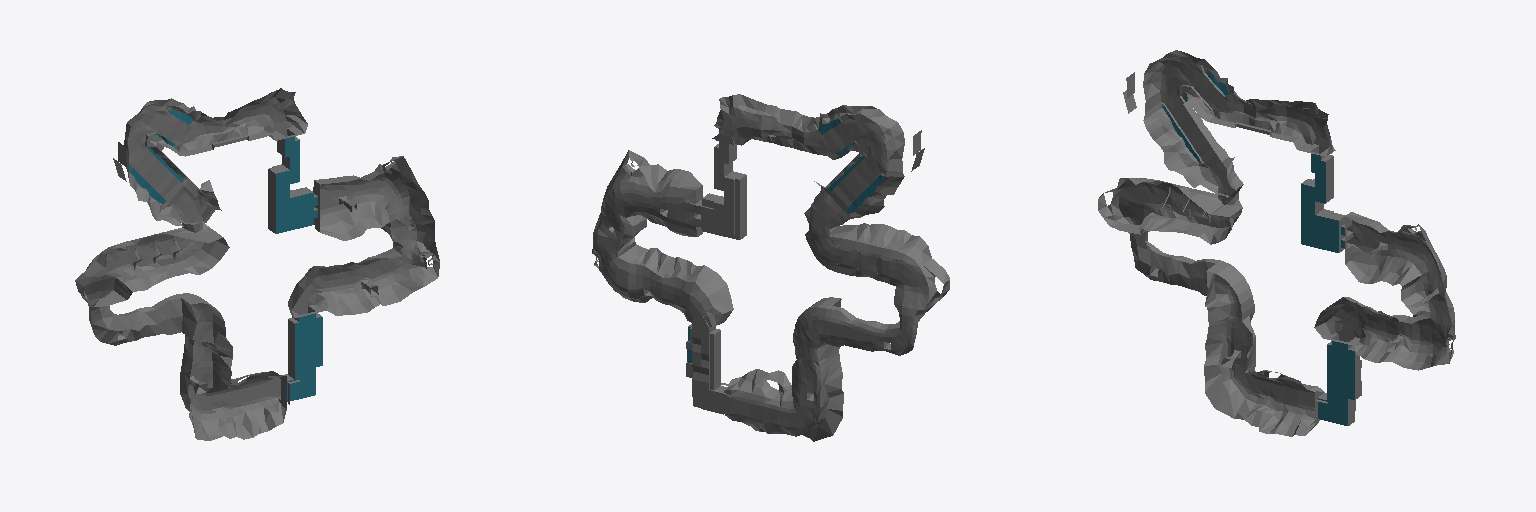
The model's file is KTTK.GDB.obj.
3 renders of one model, left to right at view 1: azimuth 30°, elevation 25°; view 2: azimuth 150°, elevation 25°; view 3: azimuth 330°, elevation 25°, orthographic.
Size of the model in its own units: 1710 by 1630 by 198.